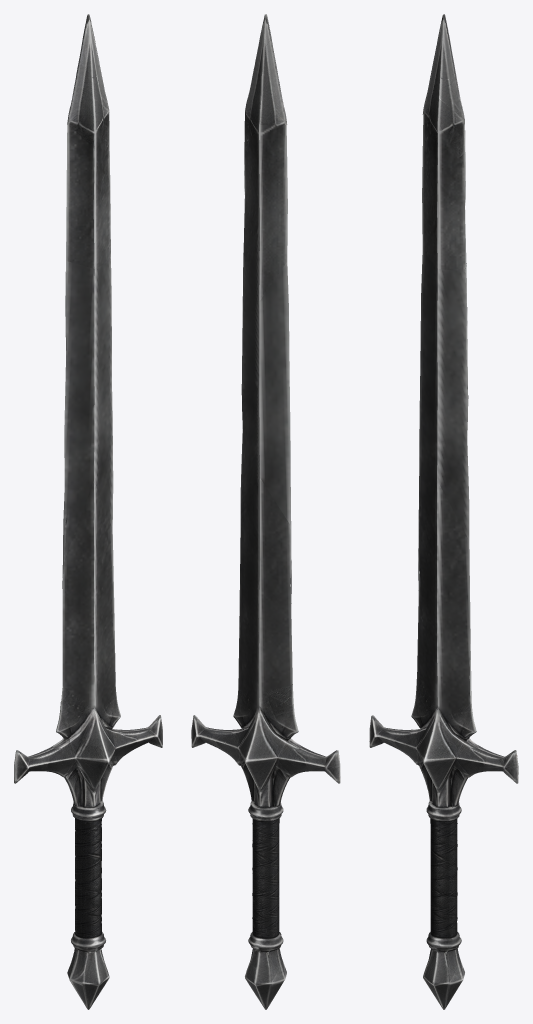
The model's file is GRS035_Remesh_10k.fbx.
3 views of the same model, side by side, from view 1: azimuth 30°, elevation 25°; view 2: azimuth 150°, elevation 25°; view 3: azimuth 330°, elevation 25° (orthographic).
Parts seen in each view (by area): view 1: output_unwrapped; view 2: output_unwrapped; view 3: output_unwrapped.
Boxes of the visible parts, <box> form: output_unwrapped: <box>14,14,162,1009</box>; output_unwrapped: <box>191,14,340,1009</box>; output_unwrapped: <box>369,14,518,1009</box>.
Size of the model in its own units: 29.73 by 190 by 14.01.
Materials: 1 (1 with a texture image).
